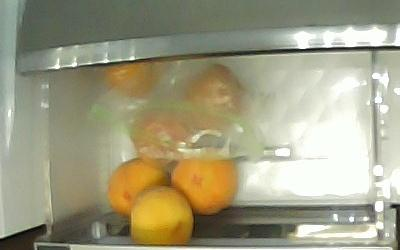peach: (171, 155, 237, 214), (129, 184, 192, 245), (107, 158, 171, 216)
peach_vinyl: (181, 67, 245, 130), (131, 106, 186, 166), (104, 59, 165, 97)
